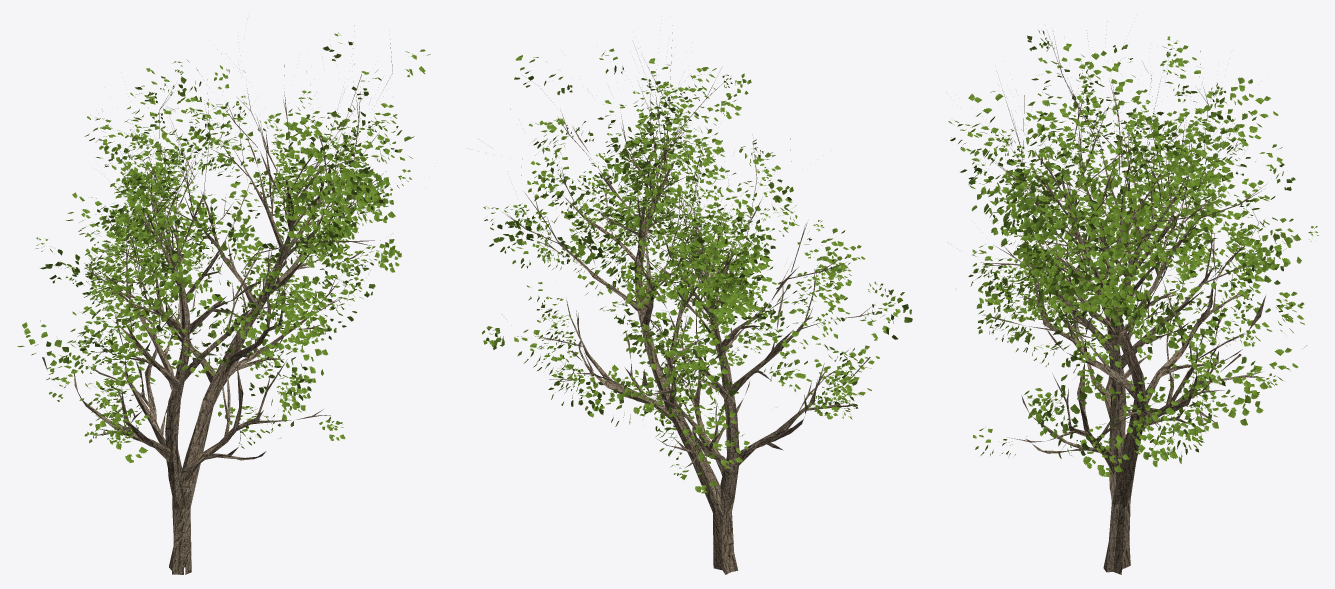
File: Trees 1.fbx
The picture shows the model from 3 angles, left to right: view 1: azimuth 30°, elevation 25°; view 2: azimuth 150°, elevation 25°; view 3: azimuth 270°, elevation 25°; orthographic projection. The views are drawn at different scales.
Parts seen in each view (by area): view 1: Tree_LOD_2; view 2: Tree_LOD_2; view 3: Tree_LOD_2.
Boxes of the visible parts, x1,y1,x2,y2 form: Tree_LOD_2: (17,25,430,574); Tree_LOD_2: (482,25,912,574); Tree_LOD_2: (946,21,1318,574).
Bounding box in the file's own units: 847 × 1019 × 597.
Materials: 2 (2 with a texture image).
